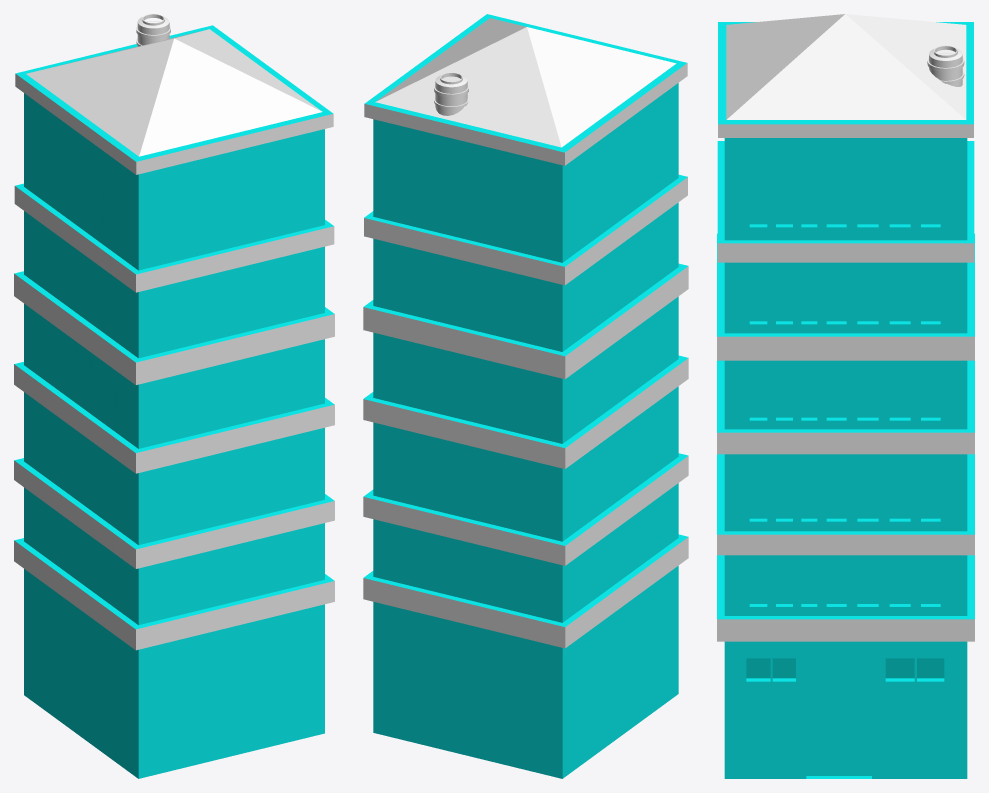
File: Building_26_Blue.glb
3 views of the same model, side by side, from view 1: azimuth 30°, elevation 25°; view 2: azimuth 150°, elevation 25°; view 3: azimuth 270°, elevation 25° (orthographic). The views are drawn at different scales.
Parts seen in each view (by area): view 1: pCube2; view 2: pCube2; view 3: pCube2.
Part boxes in pixels (x1=…): pCube2: x1=14, y1=14, x2=334, y2=778; pCube2: x1=363, y1=14, x2=688, y2=778; pCube2: x1=717, y1=14, x2=974, y2=778.
Bounding box in the file's own units: 24.48 × 79.49 × 25.93.
